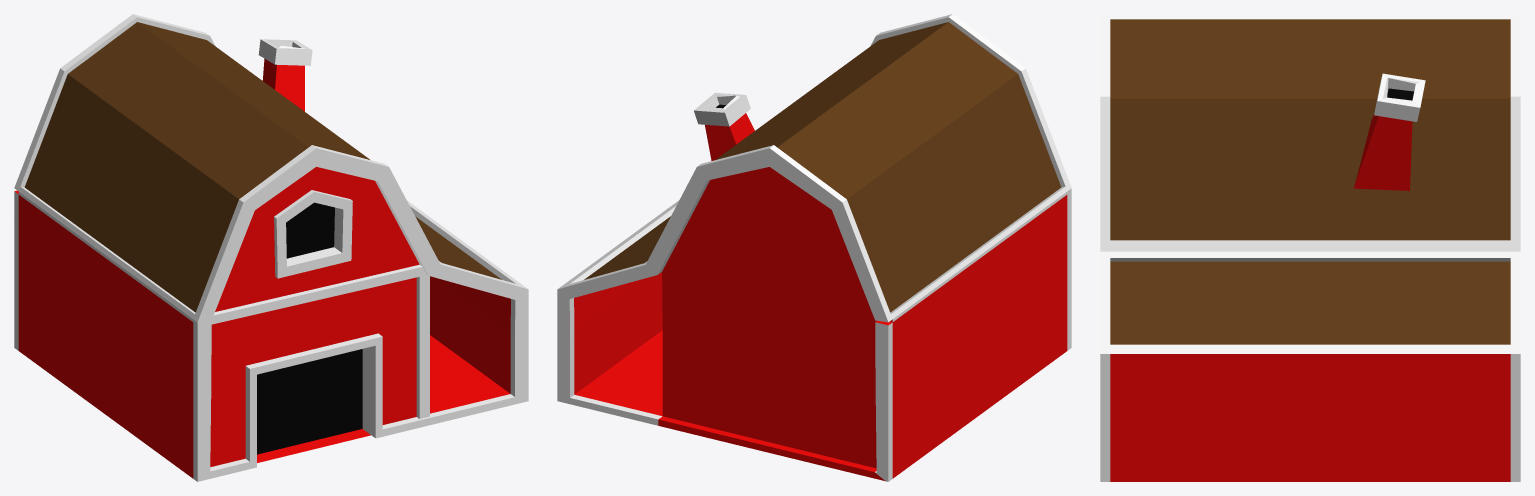
File: Huis.fbx
The picture shows the model from 3 angles, left to right: view 1: azimuth 30°, elevation 25°; view 2: azimuth 150°, elevation 25°; view 3: azimuth 270°, elevation 25°; orthographic projection. The views are drawn at different scales.
Visible parts, largest first — view 1: Huis; view 2: Huis; view 3: Huis.
Boxes of the visible parts, x1,y1,x2,y2 form: Huis: [14, 14, 528, 481]; Huis: [557, 14, 1071, 481]; Huis: [1100, 14, 1520, 481].
Bounding box in the file's own units: 488 × 509 × 447.
